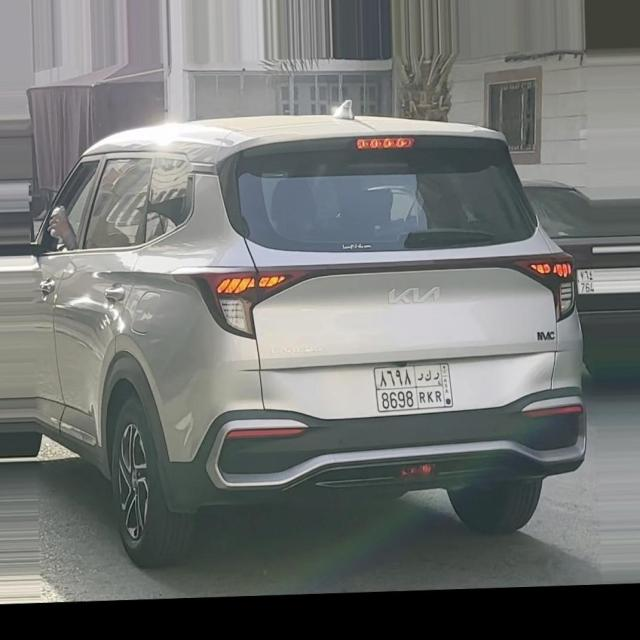Car-plate: (370, 359, 460, 420)
